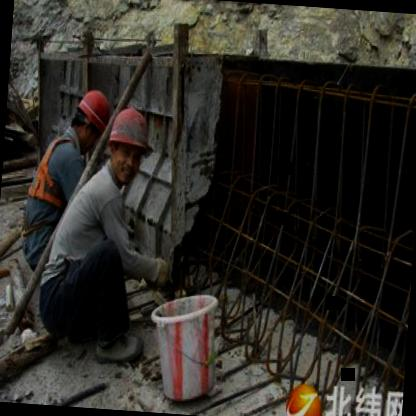helmet: (99, 103, 154, 188), (68, 84, 115, 152)
